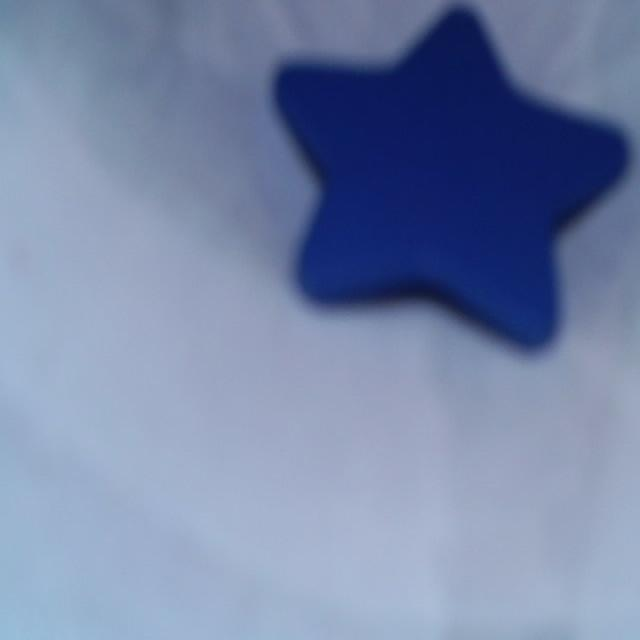star: (276, 9, 627, 347)
